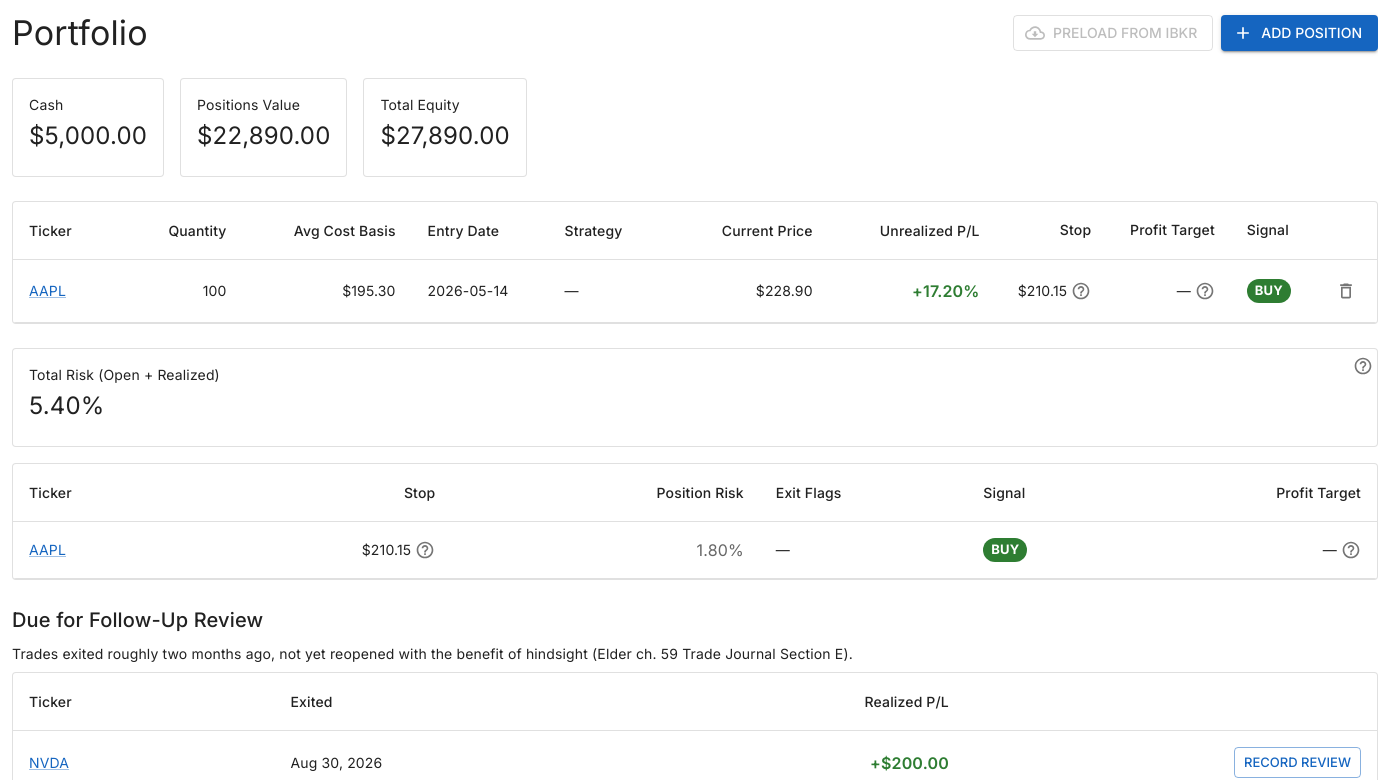
Test: PortfolioPage › Preload from IBKR › shows a distinct tooltip (not "Checking...") when GET /api/ibkr/status is unreachable
Hover over the element showing "Preload from IBKR" at coordinates (1113, 33), box [1013,15,1213,51]
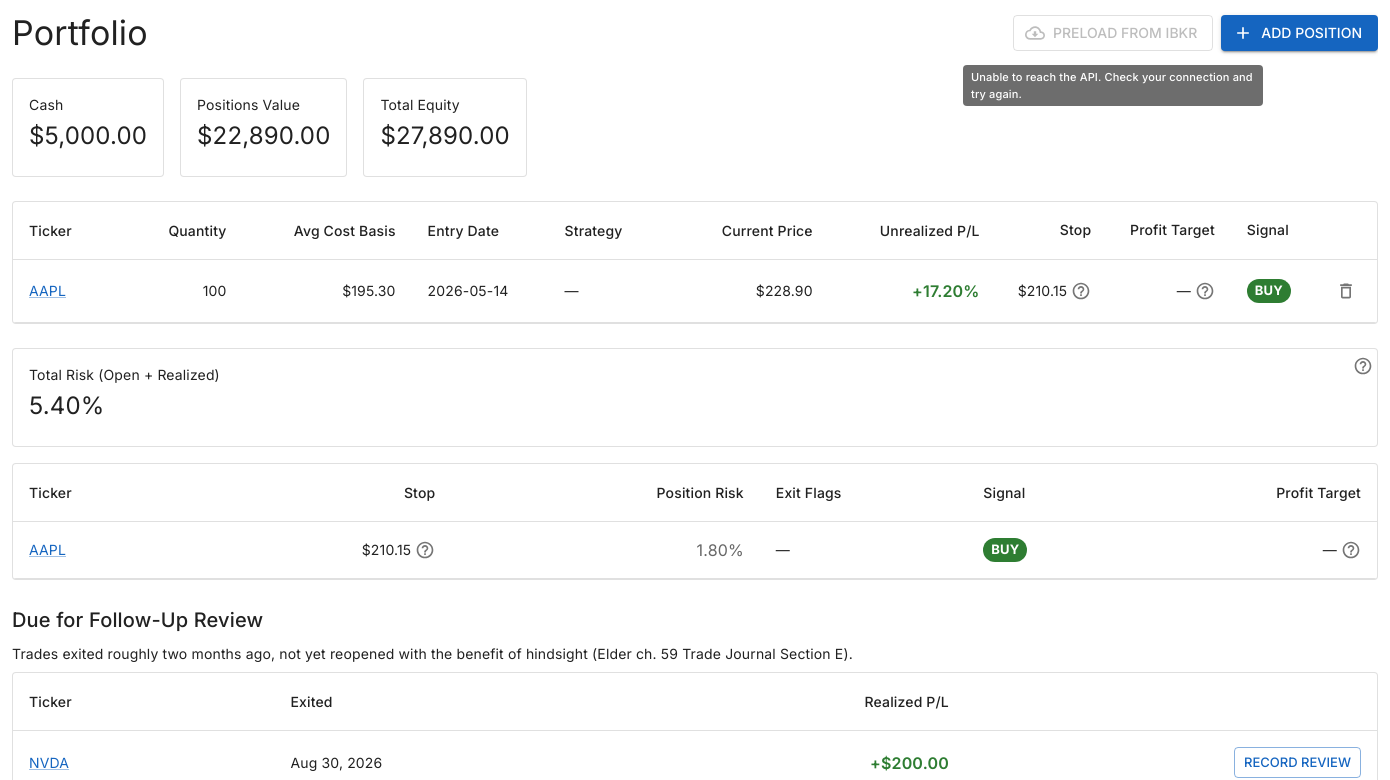
Now the text "Unable to reach the API. Check your connection and try again." is shown, box [963,65,1263,106]
